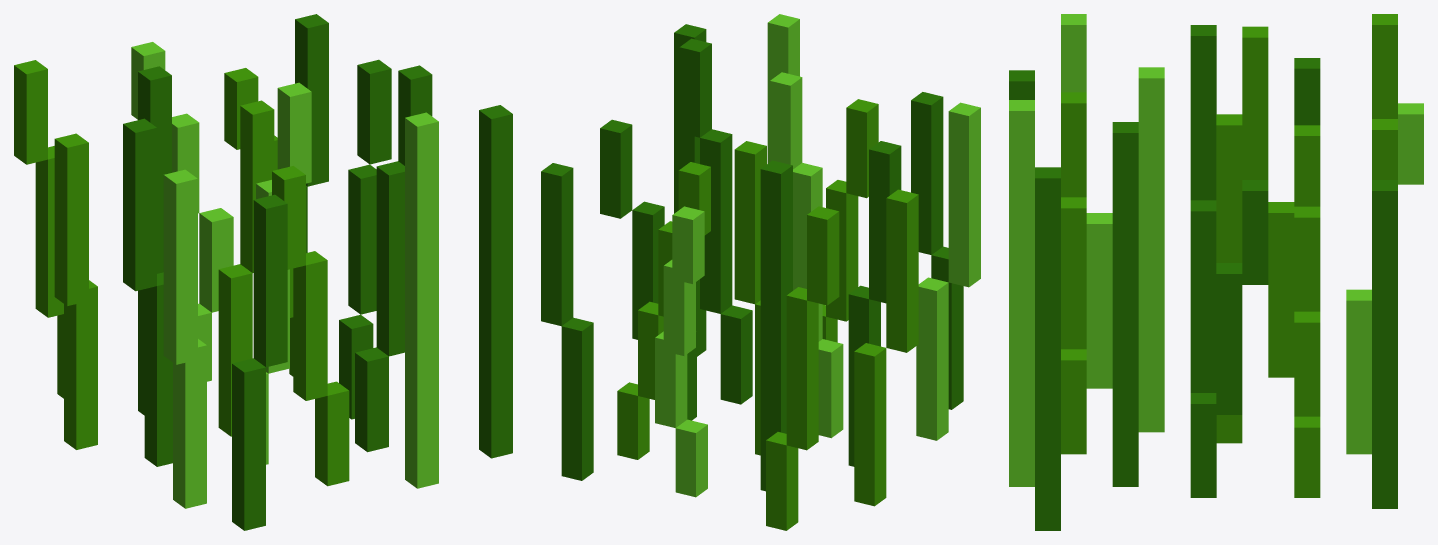
File: Grass_Tall.fbx
3 renders of one model, left to right at view 1: azimuth 30°, elevation 25°; view 2: azimuth 150°, elevation 25°; view 3: azimuth 270°, elevation 25°, orthographic. The views are drawn at different scales.
Size of the model in its own units: 16 by 16 by 16.
Materials: 1 (1 with a texture image).
